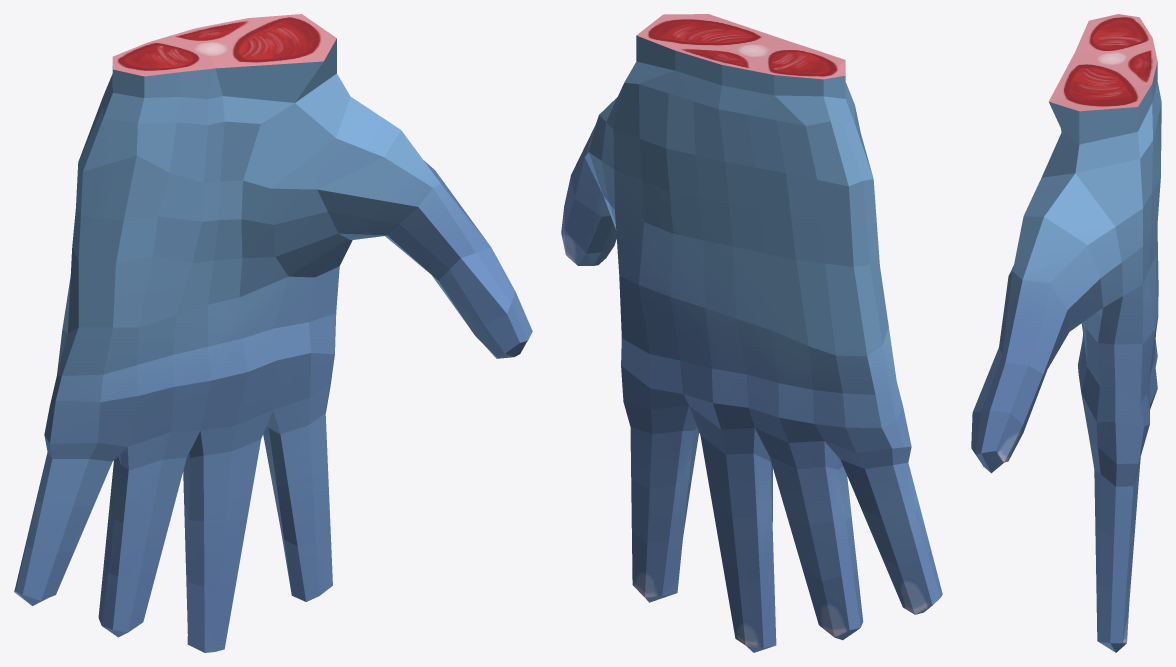
The model's file is ING_Hand_v06.fbx.
3 renders of one model, left to right at view 1: azimuth 30°, elevation 25°; view 2: azimuth 150°, elevation 25°; view 3: azimuth 270°, elevation 25°, orthographic. The views are drawn at different scales.
Visible parts, largest first — view 1: retopoHand; view 2: retopoHand; view 3: retopoHand.
Part boxes in pixels (x1=…): retopoHand: x1=14, y1=14, x2=532, y2=652; retopoHand: x1=561, y1=14, x2=942, y2=652; retopoHand: x1=971, y1=14, x2=1161, y2=652.
Bounding box in the file's own units: 26.3 × 33.98 × 10.26.
